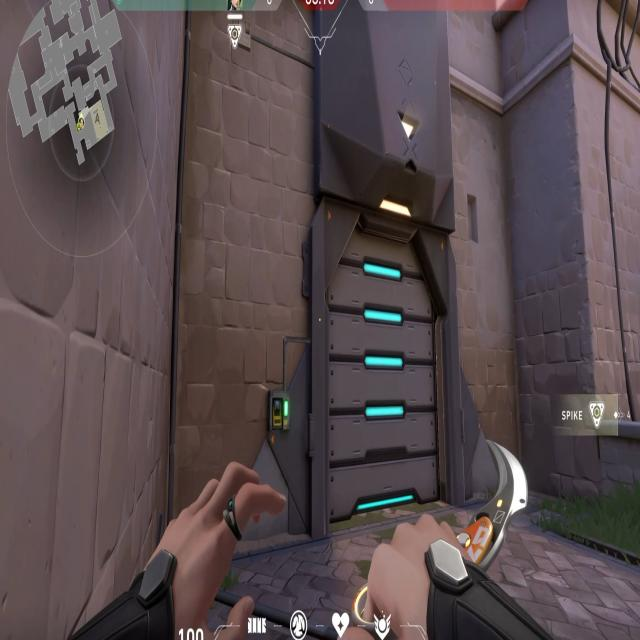A_Door: (315, 194, 453, 528)
